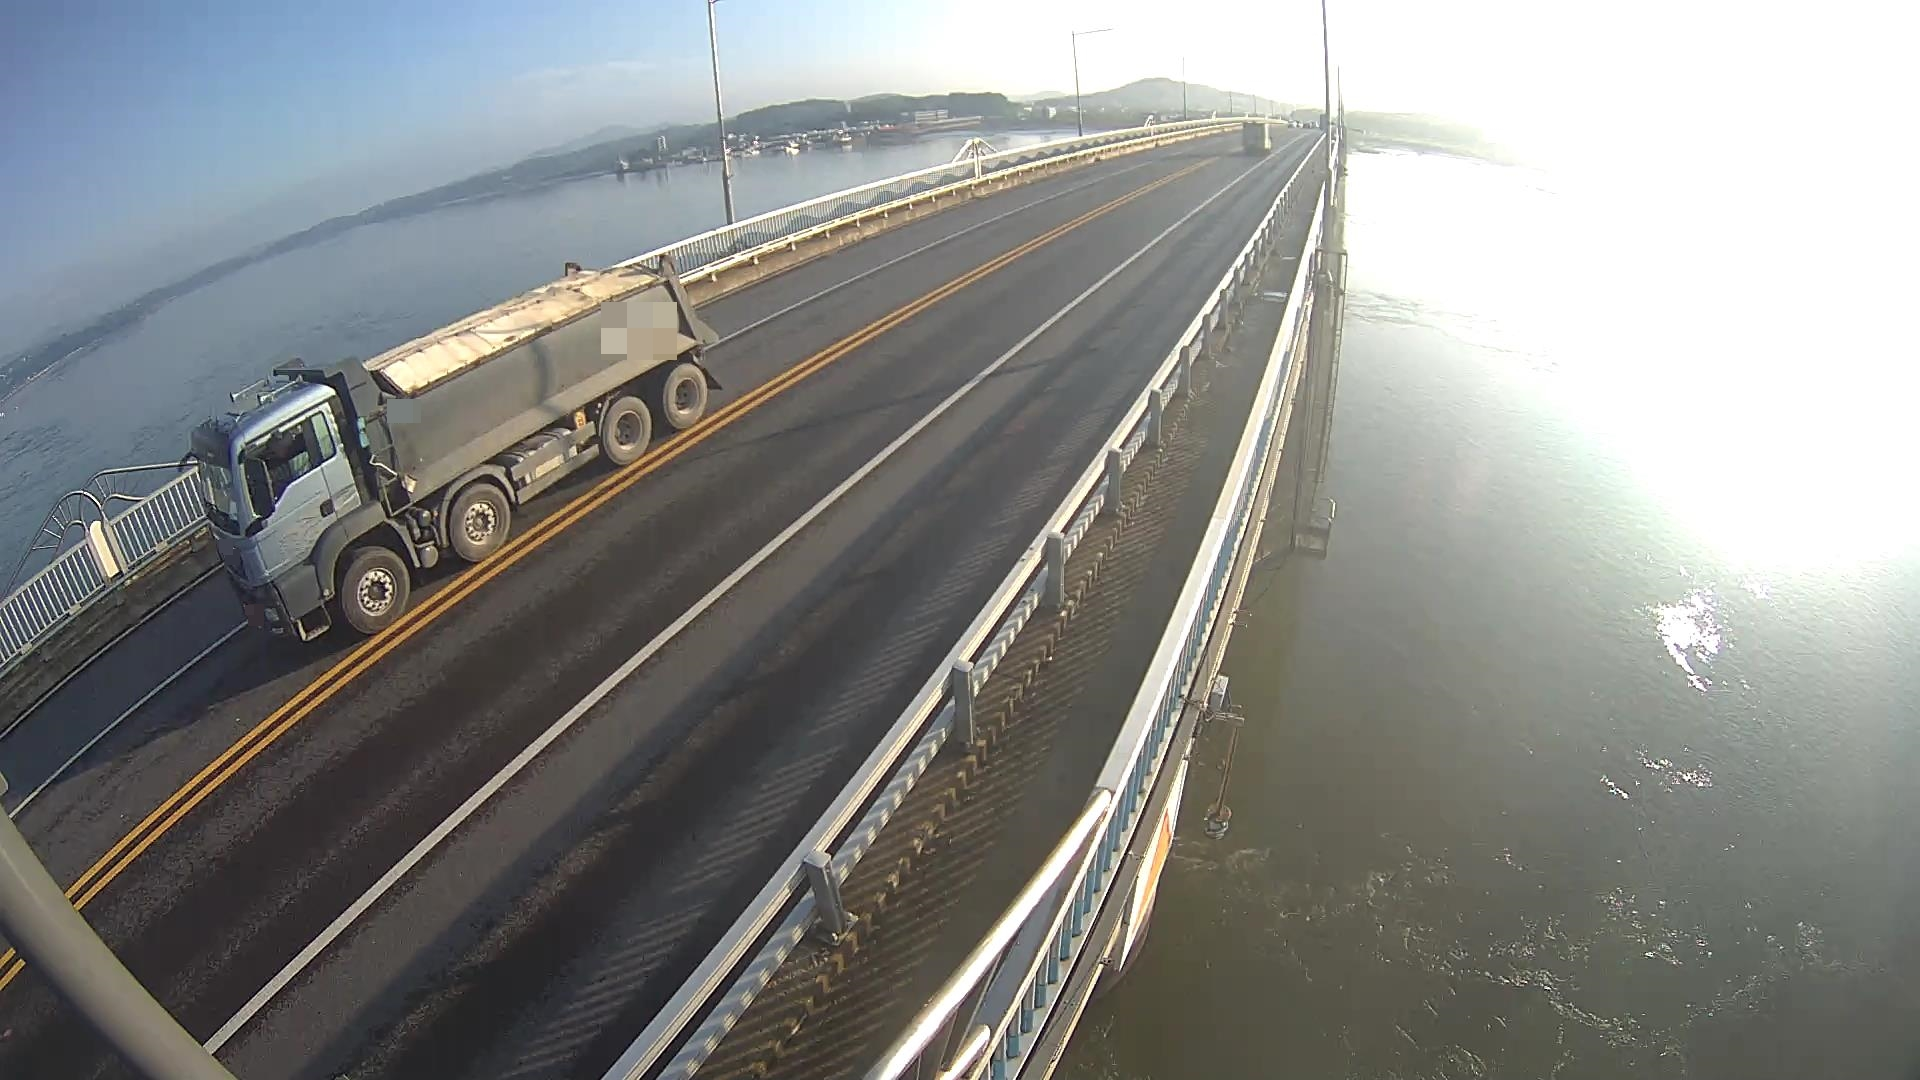정상차량: (179, 255, 723, 642)
